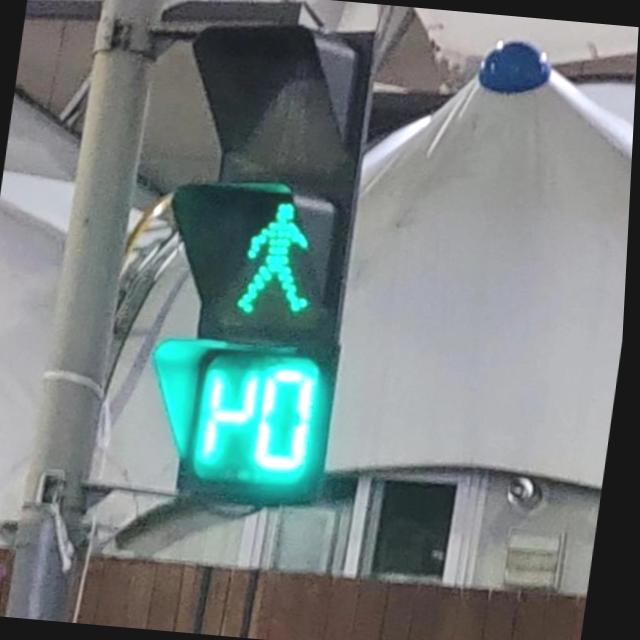green_light: (173, 196, 351, 488)
